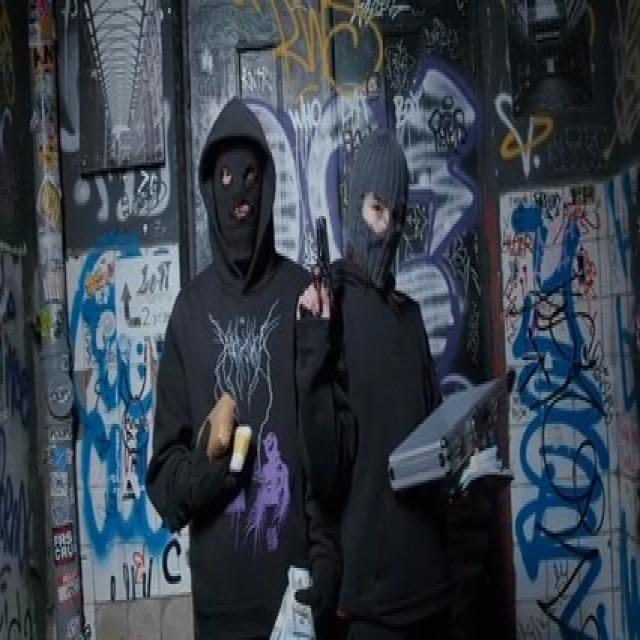Gun_Holder: (287, 213, 344, 330)
Person: (146, 106, 335, 640), (333, 122, 459, 640)
